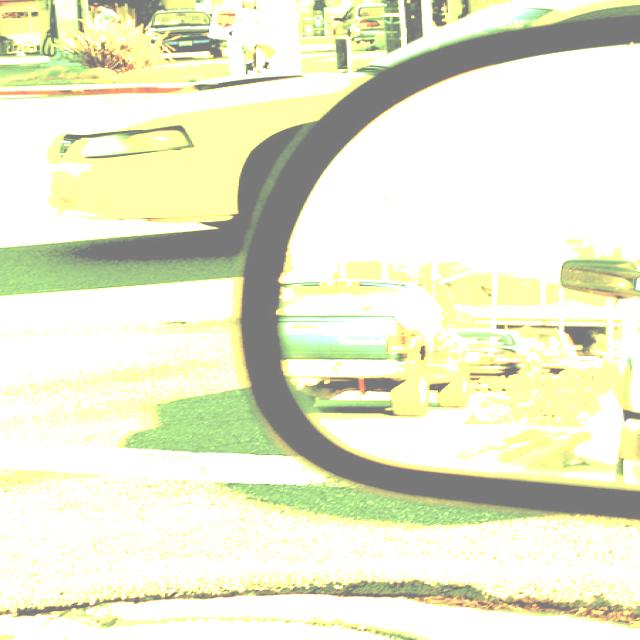Vehicle: (44, 0, 640, 226), (274, 282, 476, 412), (144, 9, 226, 59), (458, 329, 528, 379), (510, 326, 580, 370), (331, 2, 386, 42)
